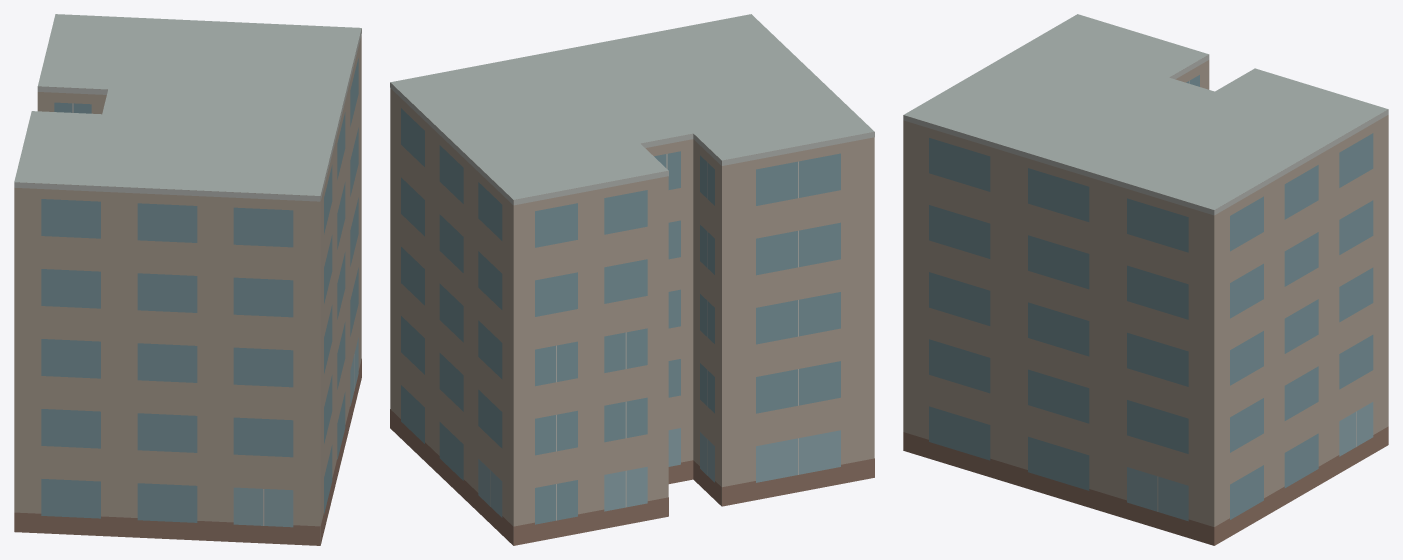
File: survey-upis-32537713.glb
3 renders of one model, left to right at view 1: azimuth 30°, elevation 25°; view 2: azimuth 150°, elevation 25°; view 3: azimuth 270°, elevation 25°, orthographic. The views are drawn at different scales.
Visible parts, largest first — view 1: survey-upis-32537713.tmp; view 2: survey-upis-32537713.tmp; view 3: survey-upis-32537713.tmp.
Boxes of the visible parts, <box> form: survey-upis-32537713.tmp: <box>14,14,361,545</box>; survey-upis-32537713.tmp: <box>390,14,874,545</box>; survey-upis-32537713.tmp: <box>903,14,1388,545</box>.
Bounding box in the file's own units: 19.11 × 15.25 × 19.98.
